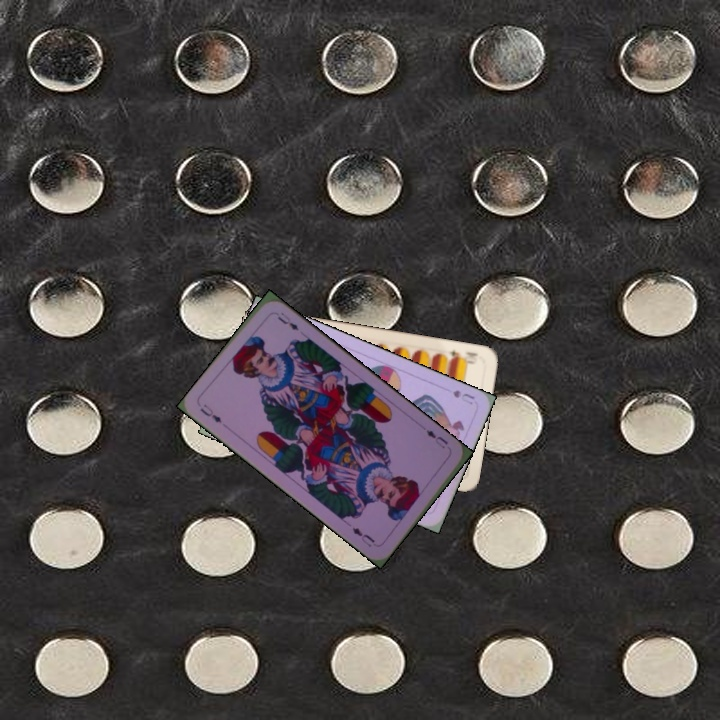E10: (444, 347, 480, 366)
EU: (422, 425, 451, 451), (196, 400, 224, 425)
SU: (449, 386, 477, 407)
